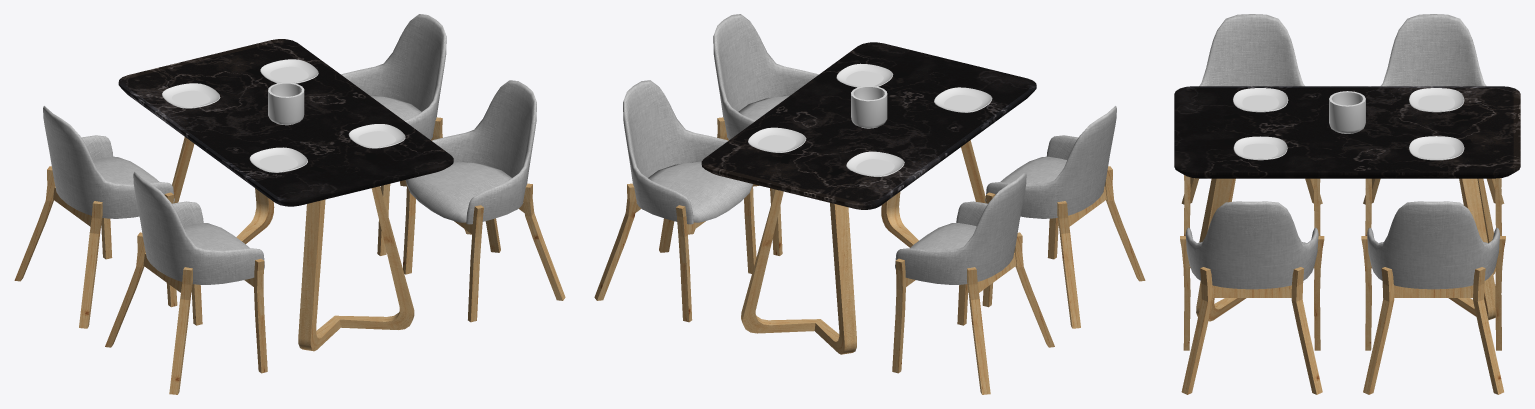
Rendered from Four_Seater_Dining_Table_03.fbx.
The picture shows the model from 3 angles, left to right: view 1: azimuth 30°, elevation 25°; view 2: azimuth 150°, elevation 25°; view 3: azimuth 270°, elevation 25°; orthographic projection.
Parts seen in each view (by area): view 1: Chair, Table; view 2: Chair, Table; view 3: Chair, Table.
Boxes of the visible parts, x1=… form: Chair: x1=14, y1=14, x2=565, y2=394; Table: x1=118, y1=39, x2=453, y2=351; Chair: x1=594, y1=14, x2=1145, y2=394; Table: x1=701, y1=42, x2=1036, y2=354; Chair: x1=1180, y1=14, x2=1505, y2=394; Table: x1=1174, y1=86, x2=1520, y2=321.
Size of the model in its own units: 193 by 91.81 by 145.
2 materials, 1 textured.
